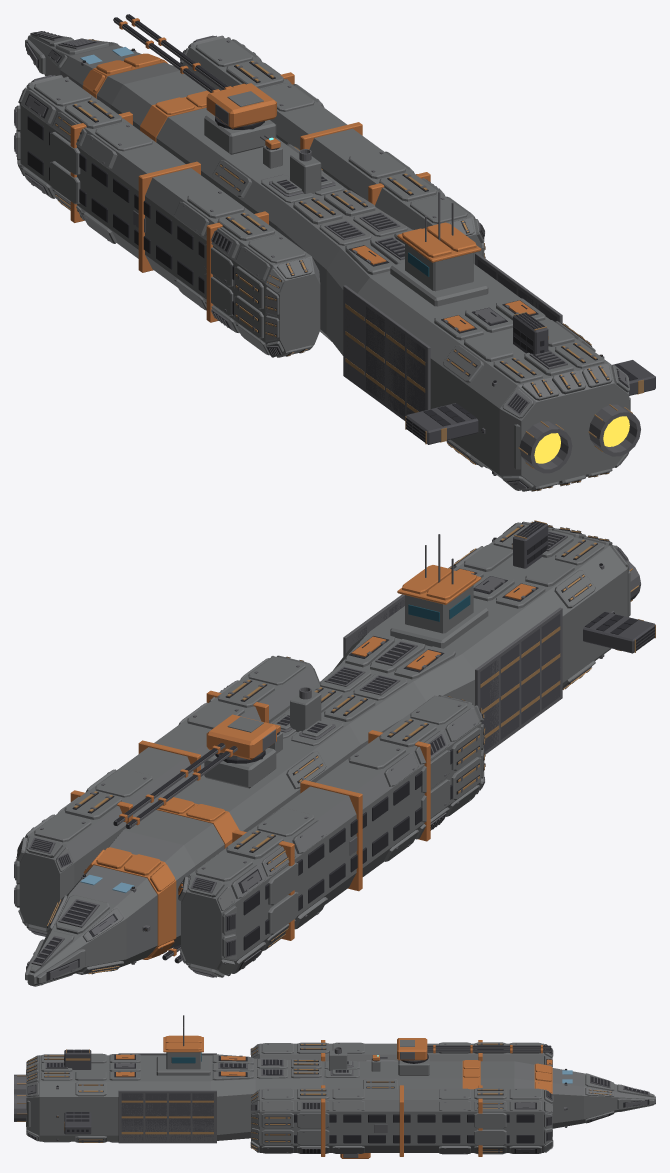
Rendered from mars_missile_cruiser.glb.
The picture shows the model from 3 angles, top to bottom: view 1: azimuth 30°, elevation 25°; view 2: azimuth 150°, elevation 25°; view 3: azimuth 270°, elevation 25°; orthographic projection. The views are drawn at different scales.
Visible parts, largest first — view 1: FleetHull, mesh_turret_gun_1, mesh_recoil_gun_1; view 2: FleetHull, mesh_turret_gun_1, mesh_recoil_gun_1; view 3: FleetHull, mesh_recoil_gun_1, mesh_turret_gun_1.
Part boxes in pixels (<box>): FleetHull: <box>14,31,655,491</box>; mesh_turret_gun_1: <box>206,83,276,128</box>; mesh_recoil_gun_1: <box>113,14,232,92</box>; FleetHull: <box>14,520,655,986</box>; mesh_turret_gun_1: <box>206,714,276,759</box>; mesh_recoil_gun_1: <box>113,743,237,828</box>; FleetHull: <box>14,1015,655,1156</box>; mesh_recoil_gun_1: <box>427,1045,551,1053</box>; mesh_turret_gun_1: <box>397,1038,427,1061</box>.
Bounding box in the file's own units: 68.29 × 67.74 × 285.
